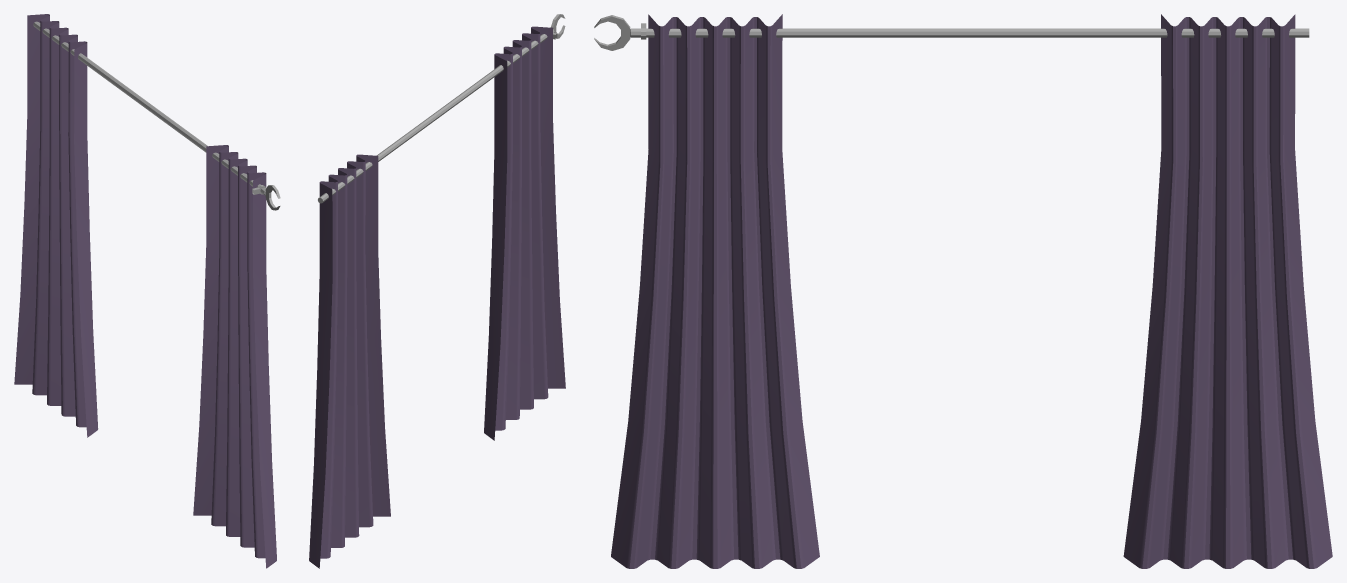
Rendered from SM_Room_Drape.fbx.
The picture shows the model from 3 angles, left to right: view 1: azimuth 30°, elevation 25°; view 2: azimuth 150°, elevation 25°; view 3: azimuth 270°, elevation 25°; orthographic projection. The views are drawn at different scales.
Parts seen in each view (by area): view 1: pPlane15, pPlane14, pCylinder68; view 2: pPlane15, pPlane14, pCylinder68; view 3: pPlane14, pPlane15, pCylinder68.
Part boxes in pixels (bbox=[...]): pPlane15: bbox=[14, 14, 98, 437]; pPlane14: bbox=[193, 145, 276, 568]; pCylinder68: bbox=[33, 21, 265, 195]; pPlane15: bbox=[309, 154, 390, 568]; pPlane14: bbox=[484, 26, 565, 440]; pCylinder68: bbox=[318, 29, 554, 203]; pPlane14: bbox=[611, 14, 819, 568]; pPlane15: bbox=[1123, 14, 1332, 568]; pCylinder68: bbox=[630, 28, 1309, 37].
Bounding box in the file's own units: 0.0626 × 1.2 × 1.47.
